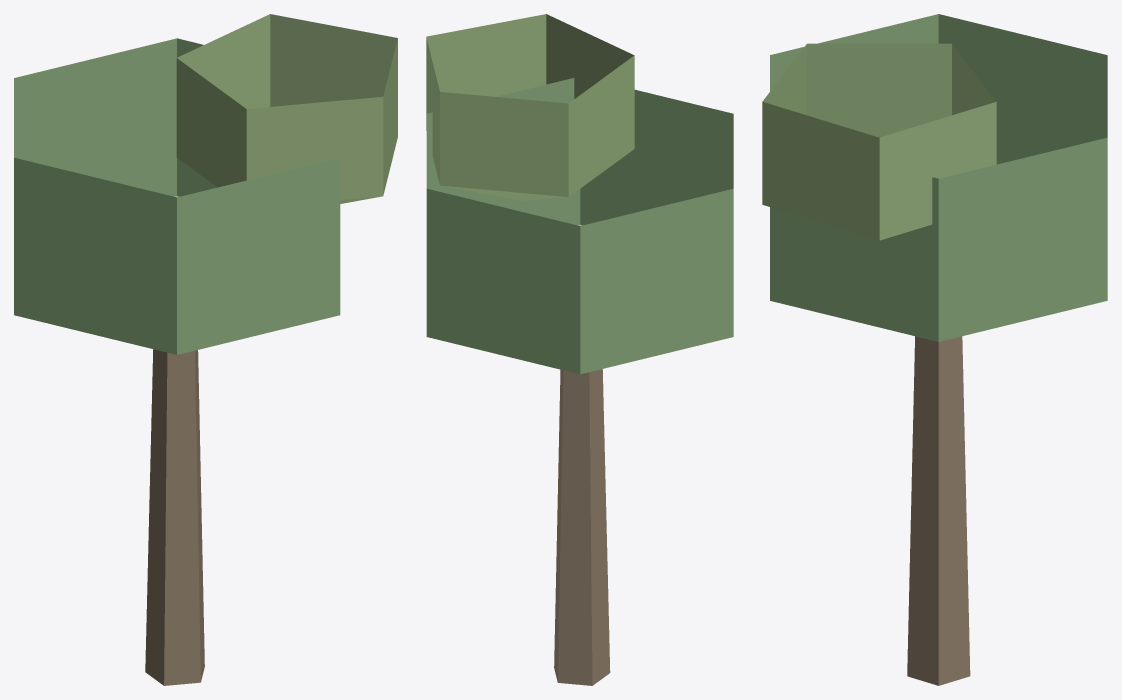
File: tree_street.glb
3 views of the same model, side by side, from view 1: azimuth 30°, elevation 25°; view 2: azimuth 150°, elevation 25°; view 3: azimuth 270°, elevation 25° (orthographic). The views are drawn at different scales.
Visible parts, largest first — view 1: tree_street_leaf, tree_street_leaf_light, tree_street_trunk; view 2: tree_street_leaf, tree_street_leaf_light, tree_street_trunk; view 3: tree_street_leaf, tree_street_leaf_light, tree_street_trunk.
Boxes of the visible parts, box(x1,y1,x2,y2) form: tree_street_leaf: box(14, 38, 340, 354); tree_street_leaf_light: box(176, 14, 397, 203); tree_street_trunk: box(145, 349, 204, 685); tree_street_leaf: box(426, 78, 733, 374); tree_street_leaf_light: box(426, 14, 634, 200); tree_street_trunk: box(554, 369, 610, 685); tree_street_leaf: box(770, 14, 1107, 341); tree_street_leaf_light: box(762, 43, 996, 240); tree_street_trunk: box(907, 336, 970, 685).
Bounding box in the file's own units: 3.58 × 5.88 × 2.91.
